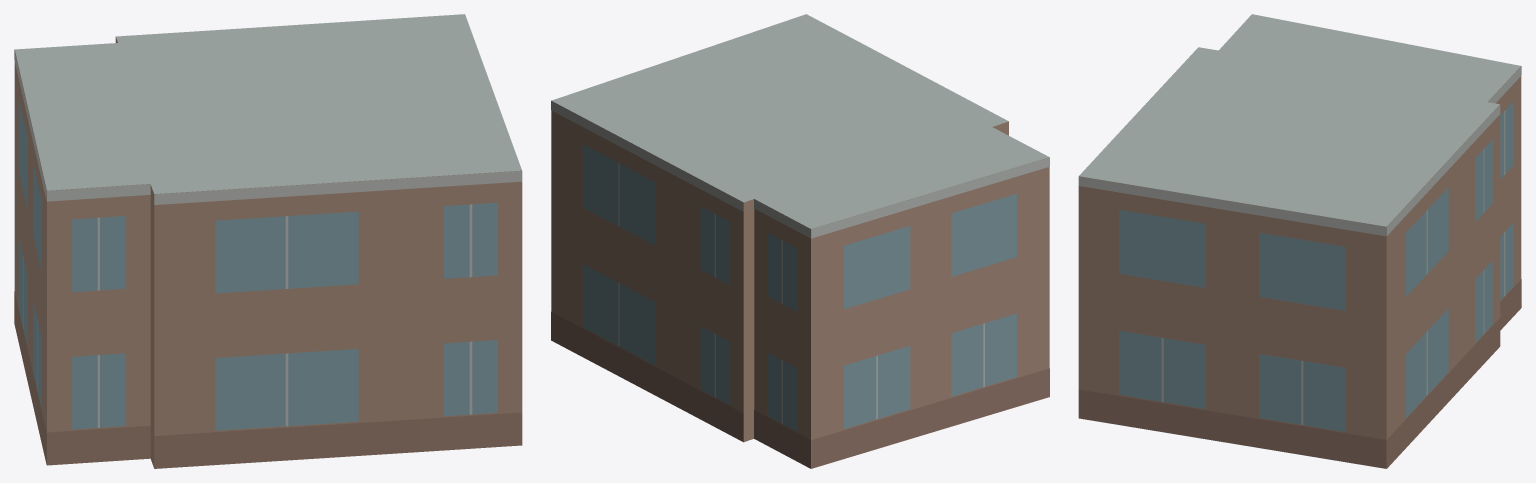
Rendered from survey-upis-32809911.glb.
3 views of the same model, side by side, from view 1: azimuth 30°, elevation 25°; view 2: azimuth 150°, elevation 25°; view 3: azimuth 270°, elevation 25° (orthographic). The views are drawn at different scales.
Visible parts, largest first — view 1: survey-upis-32809911.tmp; view 2: survey-upis-32809911.tmp; view 3: survey-upis-32809911.tmp.
Part boxes in pixels (x1,y1,x2,y2): survey-upis-32809911.tmp: [14, 14, 522, 468]; survey-upis-32809911.tmp: [551, 14, 1049, 468]; survey-upis-32809911.tmp: [1078, 14, 1521, 468].
Size of the model in its own units: 11.5 by 6.1 by 10.12.
